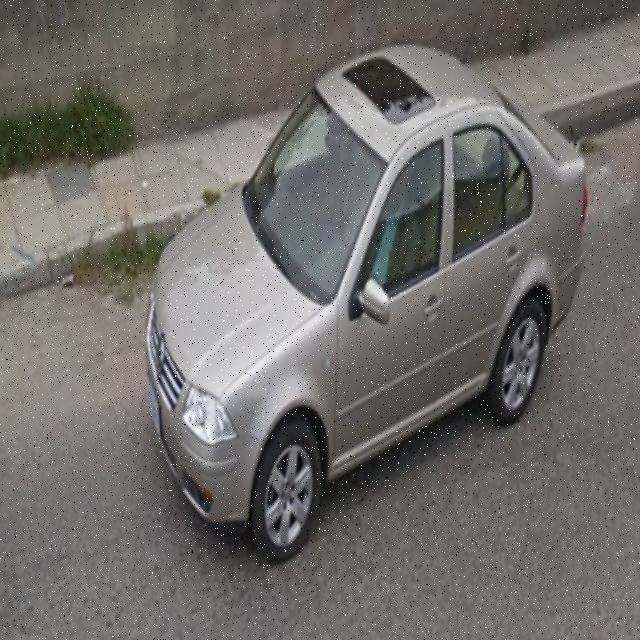cars: (144, 44, 589, 547)
